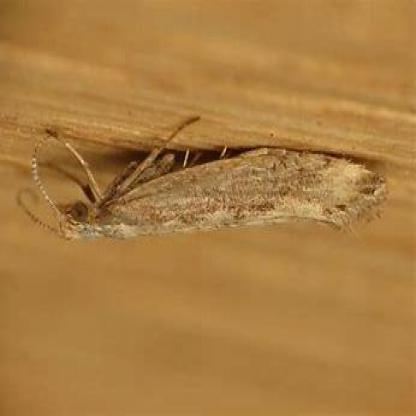plutella: (31, 111, 398, 238)
